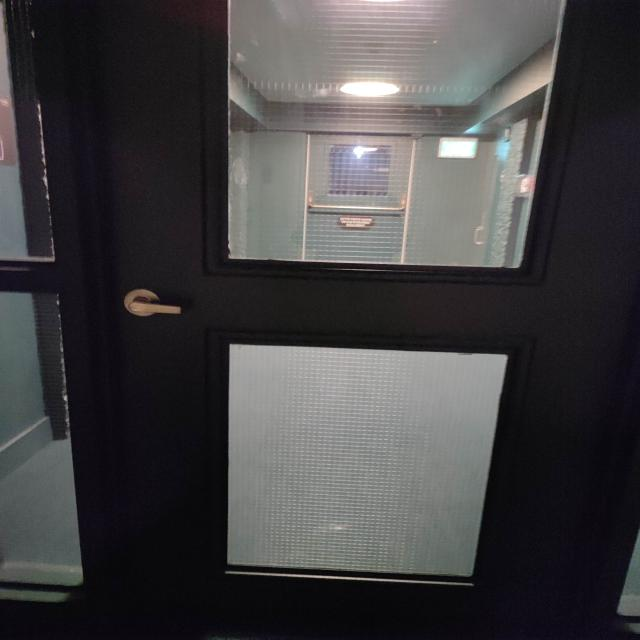door-handle: (123, 289, 182, 316)
